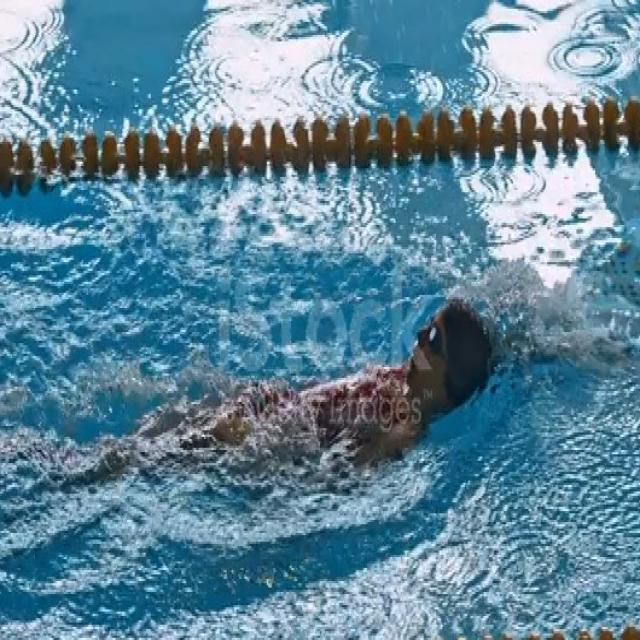Swimming: (231, 308, 501, 457)
